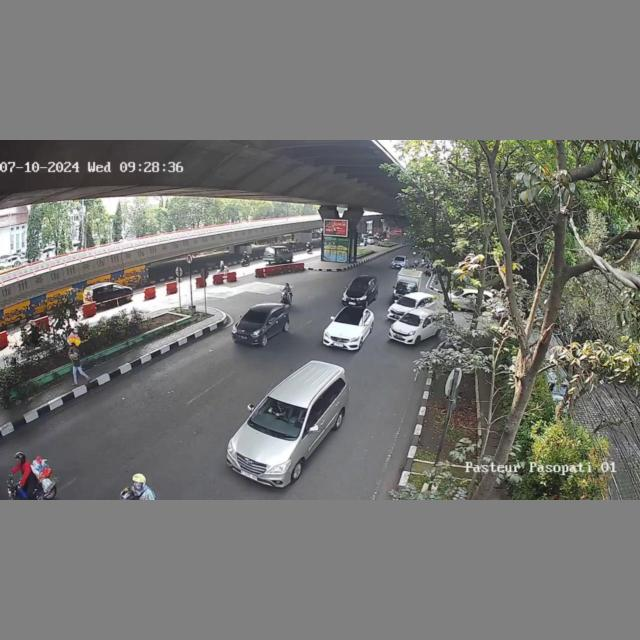windshield: (249, 395, 311, 433), (239, 310, 269, 324), (334, 312, 364, 326), (348, 281, 369, 292), (401, 315, 422, 324)
